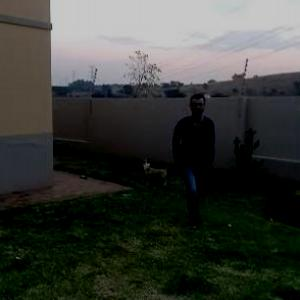follow: (168, 80, 219, 232)
